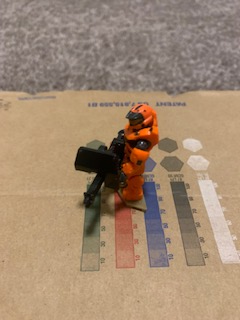soldier: (74, 101, 162, 216)
